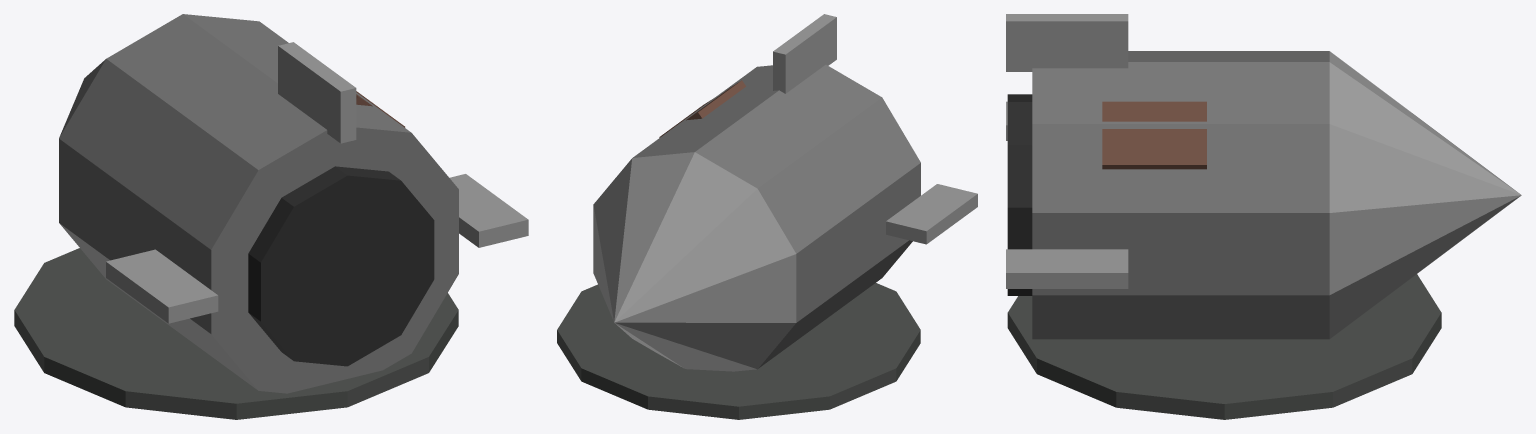
Rendered from ancient_transport_pod_1.obj.
3 renders of one model, left to right at view 1: azimuth 30°, elevation 25°; view 2: azimuth 150°, elevation 25°; view 3: azimuth 270°, elevation 25°, orthographic. The views are drawn at different scales.
Parts seen in each view (by area): view 1: ancient_transport_pod_1; view 2: ancient_transport_pod_1; view 3: ancient_transport_pod_1.
Boxes of the visible parts, x1,y1,x2,y2 form: ancient_transport_pod_1: (14, 14, 528, 419); ancient_transport_pod_1: (557, 14, 977, 419); ancient_transport_pod_1: (1006, 14, 1521, 419).
Bounding box in the file's own units: 1.24 × 0.98 × 1.48.
